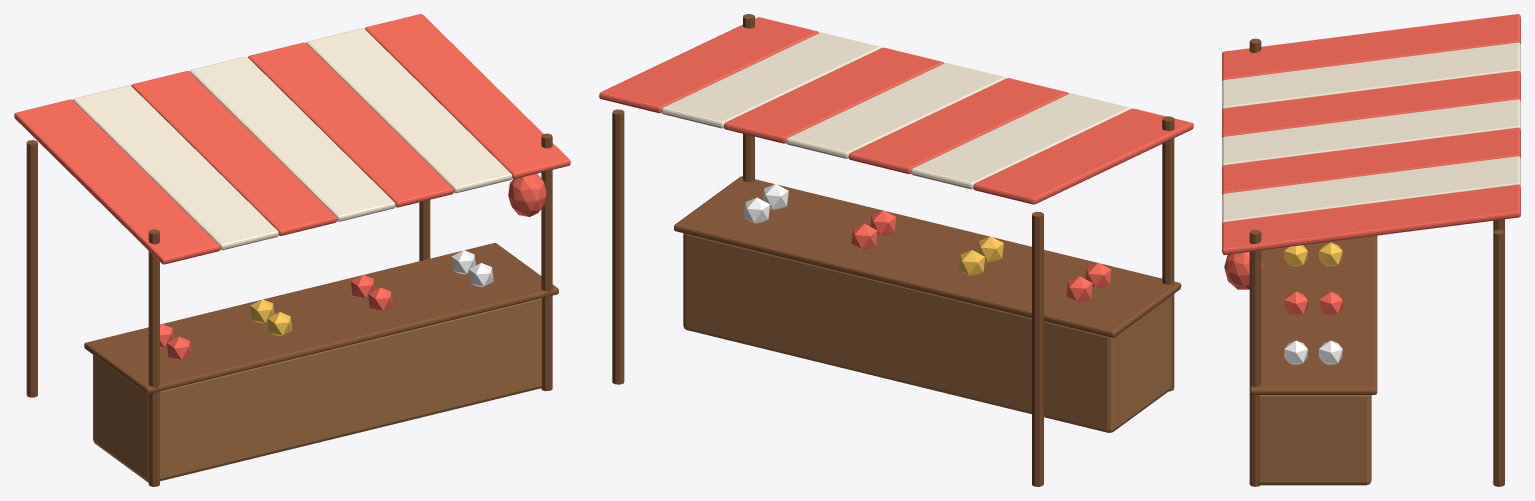
The model's file is sap-cho.glb.
The picture shows the model from 3 angles, left to right: view 1: azimuth 30°, elevation 25°; view 2: azimuth 150°, elevation 25°; view 3: azimuth 270°, elevation 25°; orthographic projection. The views are drawn at different scales.
Visible parts, largest first — view 1: sap-cho-0, sap-cho-1, sap-cho-6, sap-cho-7, sap-cho-10, sap-cho-9, sap-cho-11, sap-cho-8, sap-cho-12, sap-cho-2, sap-cho-3, sap-cho-5 (+2 smaller); view 2: sap-cho-0, sap-cho-1, sap-cho-6, sap-cho-10, sap-cho-11, sap-cho-7, sap-cho-8, sap-cho-9, sap-cho-12, sap-cho-4, sap-cho-2, sap-cho-3 (+1 smaller); view 3: sap-cho-1, sap-cho-0, sap-cho-12, sap-cho-9, sap-cho-11, sap-cho-7, sap-cho-10, sap-cho-8, sap-cho-6, sap-cho-4, sap-cho-5, sap-cho-21 (+6 smaller).
Part boxes in pixels (x1=…): sap-cho-0: x1=93, y1=298, x2=541, y2=482; sap-cho-1: x1=84, y1=243, x2=558, y2=393; sap-cho-6: x1=14, y1=99, x2=220, y2=264; sap-cho-7: x1=73, y1=85, x2=278, y2=250; sap-cho-10: x1=248, y1=42, x2=453, y2=207; sap-cho-9: x1=189, y1=56, x2=395, y2=221; sap-cho-11: x1=306, y1=28, x2=512, y2=193; sap-cho-8: x1=131, y1=71, x2=337, y2=235; sap-cho-12: x1=365, y1=14, x2=570, y2=178; sap-cho-2: x1=26, y1=140, x2=37, y2=397; sap-cho-3: x1=148, y1=229, x2=159, y2=486; sap-cho-5: x1=541, y1=133, x2=552, y2=391; sap-cho-0: x1=683, y1=233, x2=1171, y2=432; sap-cho-1: x1=674, y1=176, x2=1181, y2=337; sap-cho-6: x1=973, y1=108, x2=1193, y2=204; sap-cho-10: x1=724, y1=47, x2=943, y2=143; sap-cho-11: x1=661, y1=32, x2=881, y2=128; sap-cho-7: x1=911, y1=93, x2=1131, y2=189; sap-cho-8: x1=848, y1=78, x2=1068, y2=173; sap-cho-9: x1=786, y1=63, x2=1006, y2=158; sap-cho-12: x1=599, y1=17, x2=819, y2=113; sap-cho-4: x1=612, y1=109, x2=624, y2=384; sap-cho-2: x1=1032, y1=211, x2=1043, y2=486; sap-cho-3: x1=1162, y1=116, x2=1174, y2=391; sap-cho-1: x1=1249, y1=235, x2=1377, y2=394; sap-cho-0: x1=1257, y1=395, x2=1371, y2=485; sap-cho-12: x1=1222, y1=184, x2=1520, y2=254; sap-cho-9: x1=1222, y1=99, x2=1520, y2=166; sap-cho-11: x1=1222, y1=156, x2=1520, y2=223; sap-cho-7: x1=1222, y1=42, x2=1520, y2=109; sap-cho-10: x1=1222, y1=127, x2=1520, y2=194; sap-cho-8: x1=1222, y1=71, x2=1520, y2=137; sap-cho-6: x1=1222, y1=14, x2=1520, y2=80; sap-cho-4: x1=1493, y1=230, x2=1504, y2=486; sap-cho-5: x1=1249, y1=229, x2=1261, y2=486; sap-cho-21: x1=1224, y1=252, x2=1263, y2=289.
Bounding box in the file's own units: 4.1 × 2.63 × 2.58.
